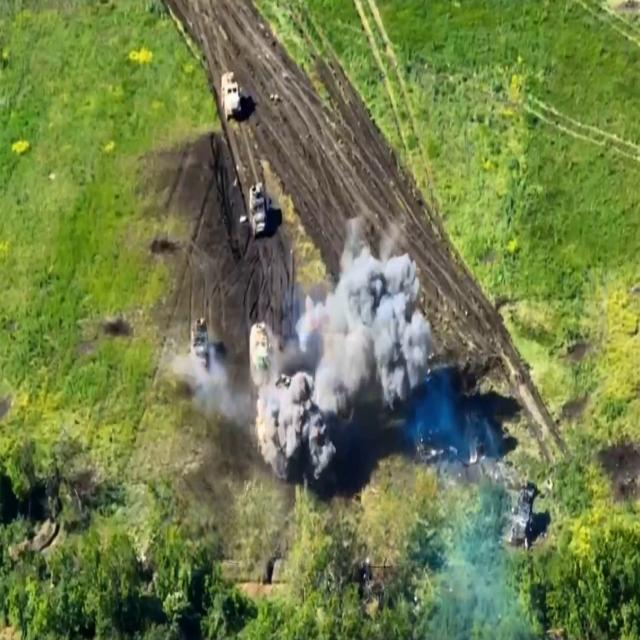Destroyed: (511, 484, 539, 548)
Vehicle: (190, 317, 213, 380), (249, 324, 273, 384), (248, 182, 271, 241), (221, 67, 245, 123)
